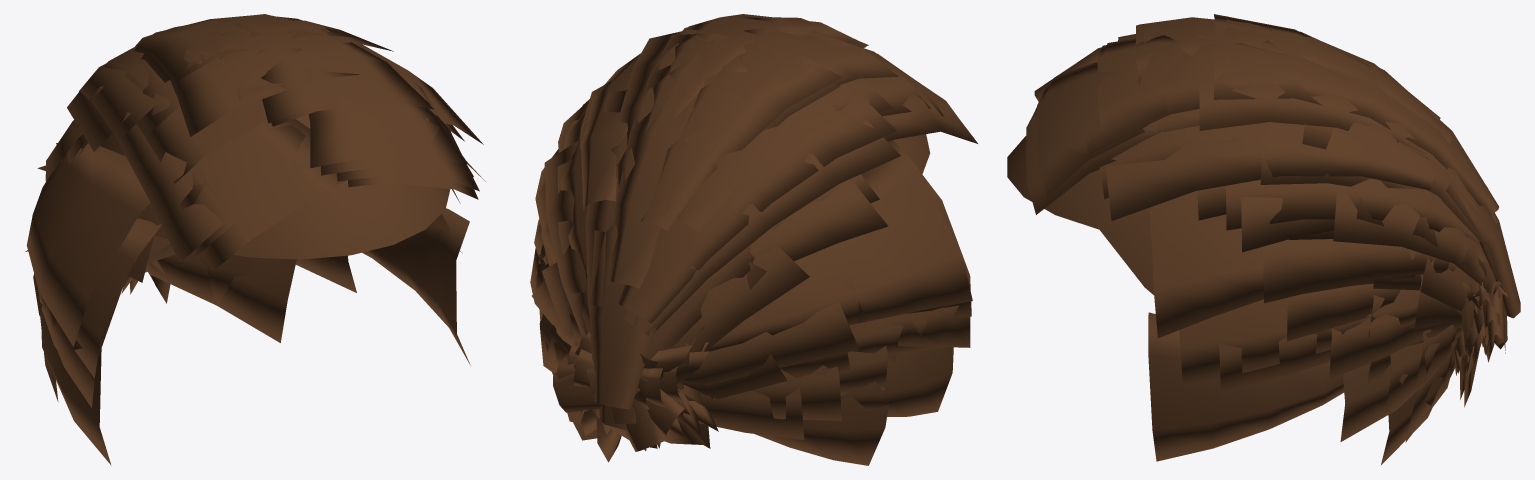
The model's file is slick_back_m.glb.
The picture shows the model from 3 angles, left to right: view 1: azimuth 30°, elevation 25°; view 2: azimuth 150°, elevation 25°; view 3: azimuth 270°, elevation 25°; orthographic projection. The views are drawn at different scales.
Visible parts, largest first — view 1: slick_back_m; view 2: slick_back_m; view 3: slick_back_m.
Boxes of the visible parts, left/top/right/bottom form: slick_back_m: left=25, top=14, right=485, bottom=465; slick_back_m: left=530, top=14, right=977, bottom=465; slick_back_m: left=1007, top=14, right=1520, bottom=464.
Size of the model in its own units: 0.2181 by 0.1947 by 0.2379.
